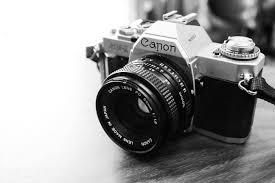camera: (95, 23, 255, 159)
